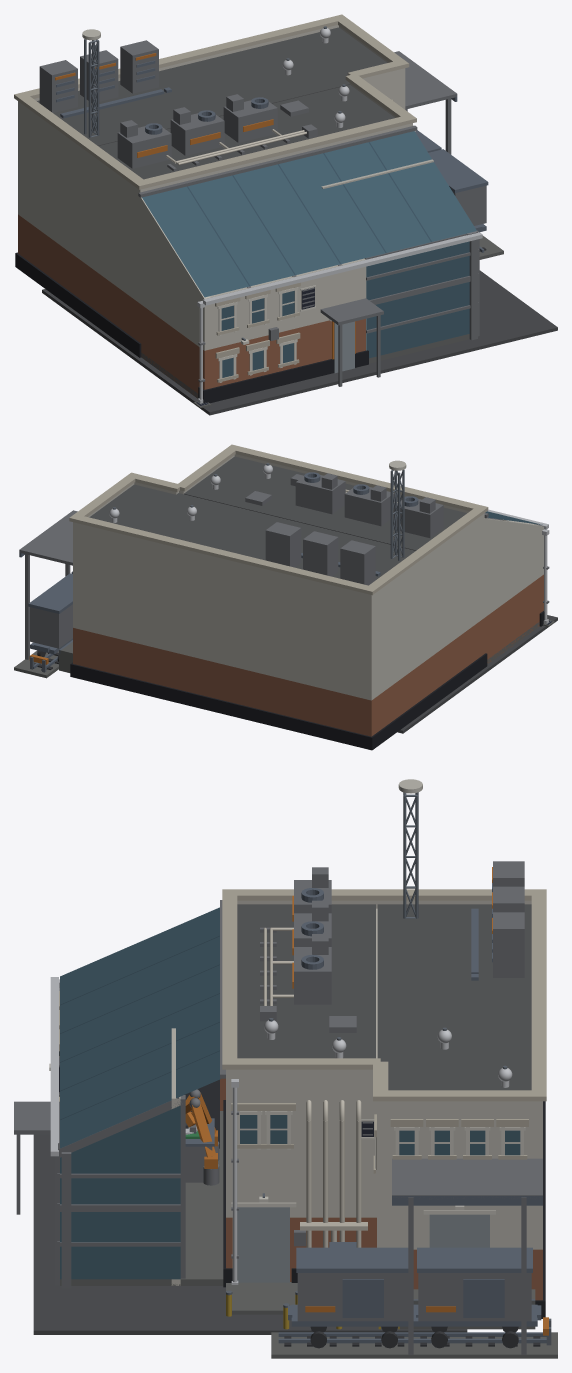
The model's file is high_tech_manufactory_lvl3.glb.
3 views of the same model, one above another, from view 1: azimuth 30°, elevation 25°; view 2: azimuth 150°, elevation 25°; view 3: azimuth 270°, elevation 25° (orthographic). The views are drawn at different scales.
Visible parts, largest first — view 1: high_tech_manufactory, high_tech_manufactory_Glass; view 2: high_tech_manufactory; view 3: high_tech_manufactory, high_tech_manufactory_Glass.
Boxes of the visible parts, x1,y1,x2,y2 form: high_tech_manufactory: (14,14,557,415); high_tech_manufactory_Glass: (142,131,476,377); high_tech_manufactory: (14,444,557,750); high_tech_manufactory: (14,779,557,1358); high_tech_manufactory_Glass: (59,907,520,1279).
Size of the model in its own units: 1 by 0.6598 by 0.9345.
